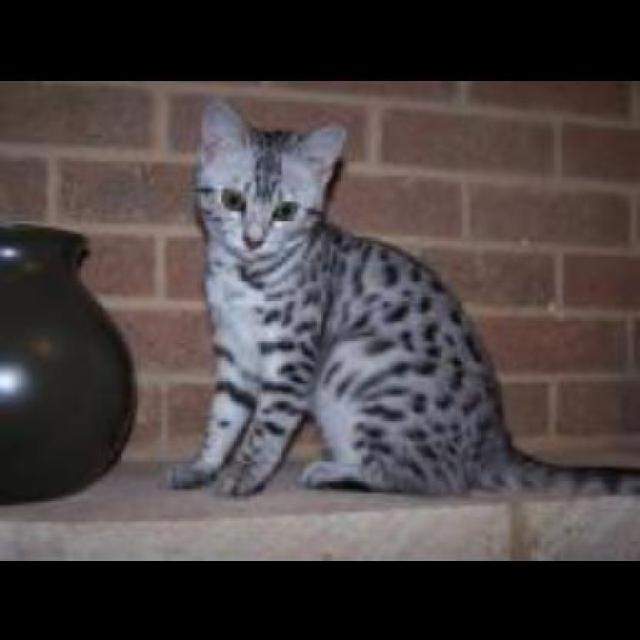unauthorized: (163, 96, 639, 498)
